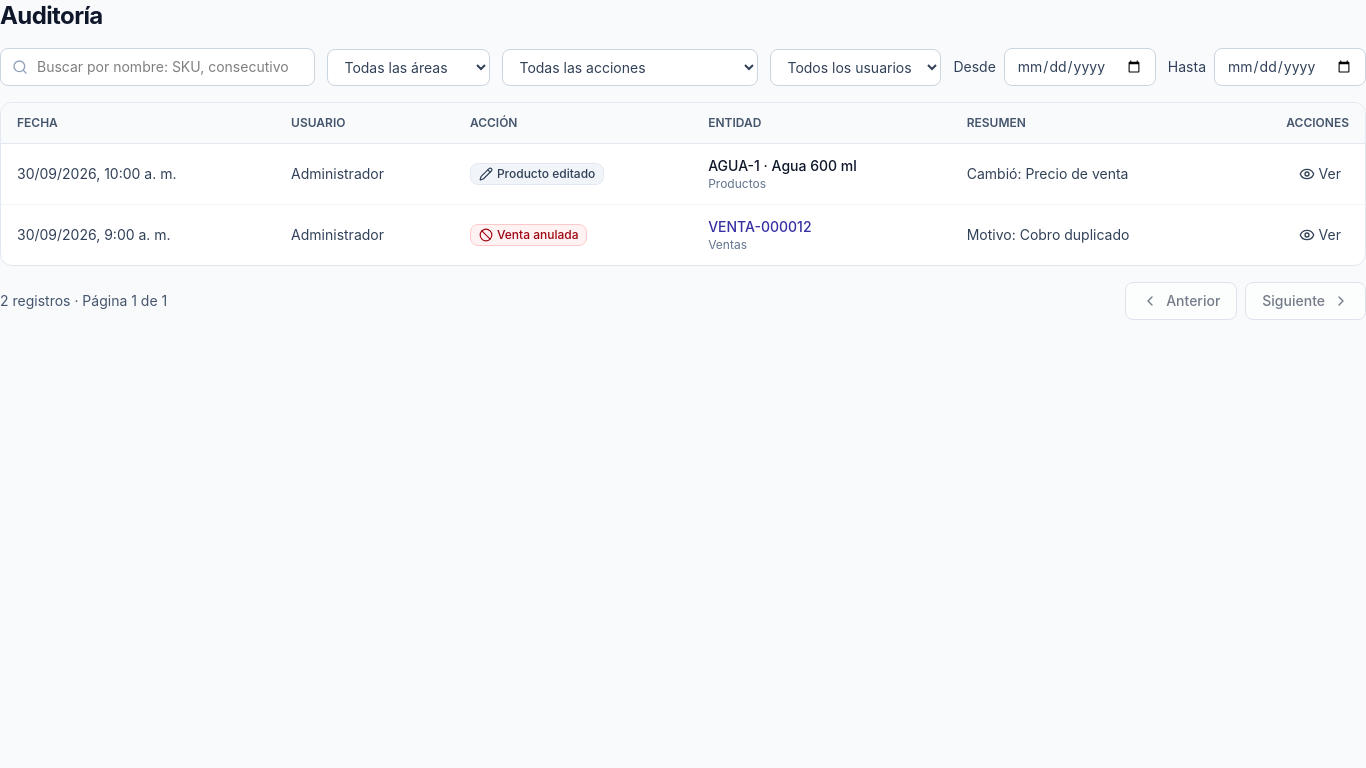
it: AuditLogsPage › shows the old and new values in the detail
Step 1. Click the button with aria-label "Ver detalle de AGUA-1 · Agua 600 ml" → (1320, 174), box [1291, 160, 1349, 188]
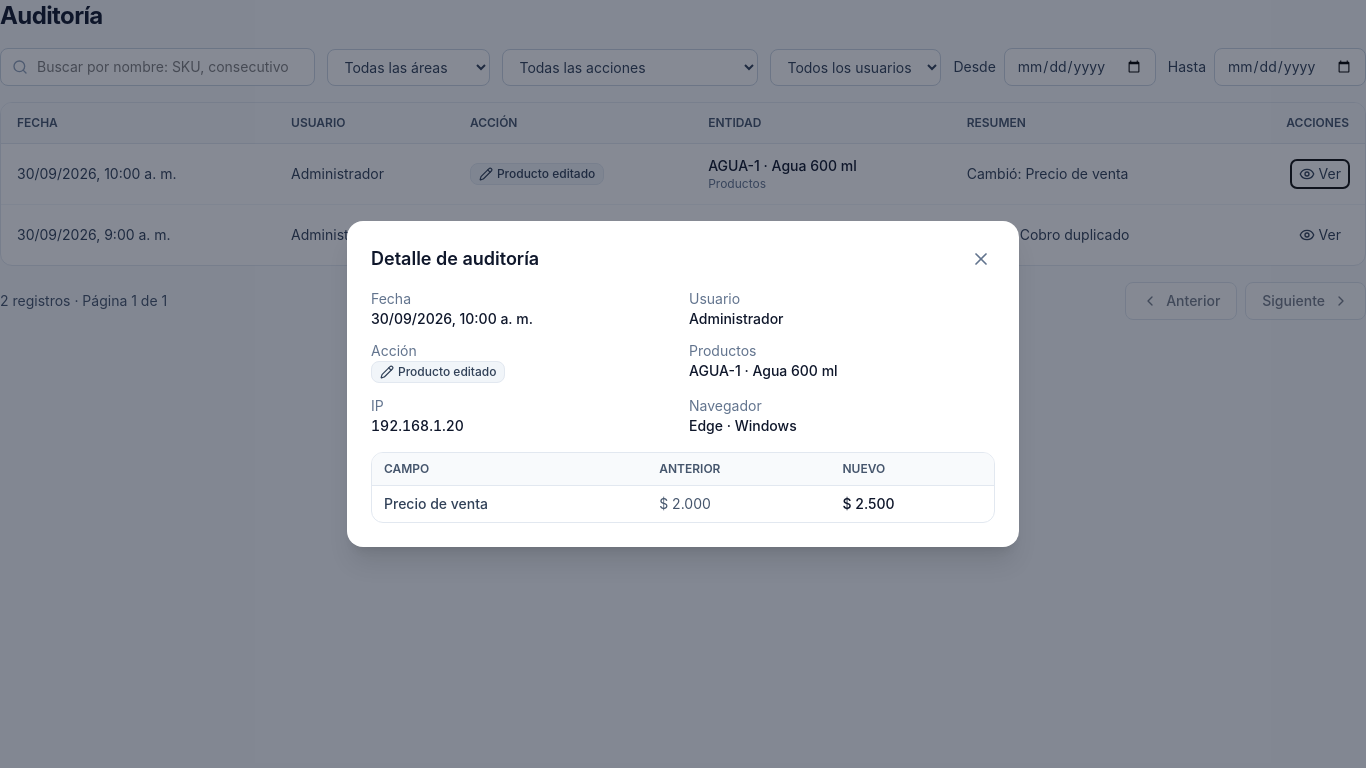
Now the row "Precio de venta $ 2.000 $ 2.500" is shown, box [372, 486, 994, 522]
Now the column heading "Anterior" is shown, box [647, 453, 830, 486]
Now the text "192.168.1.20" is shown, box [371, 417, 464, 434]
